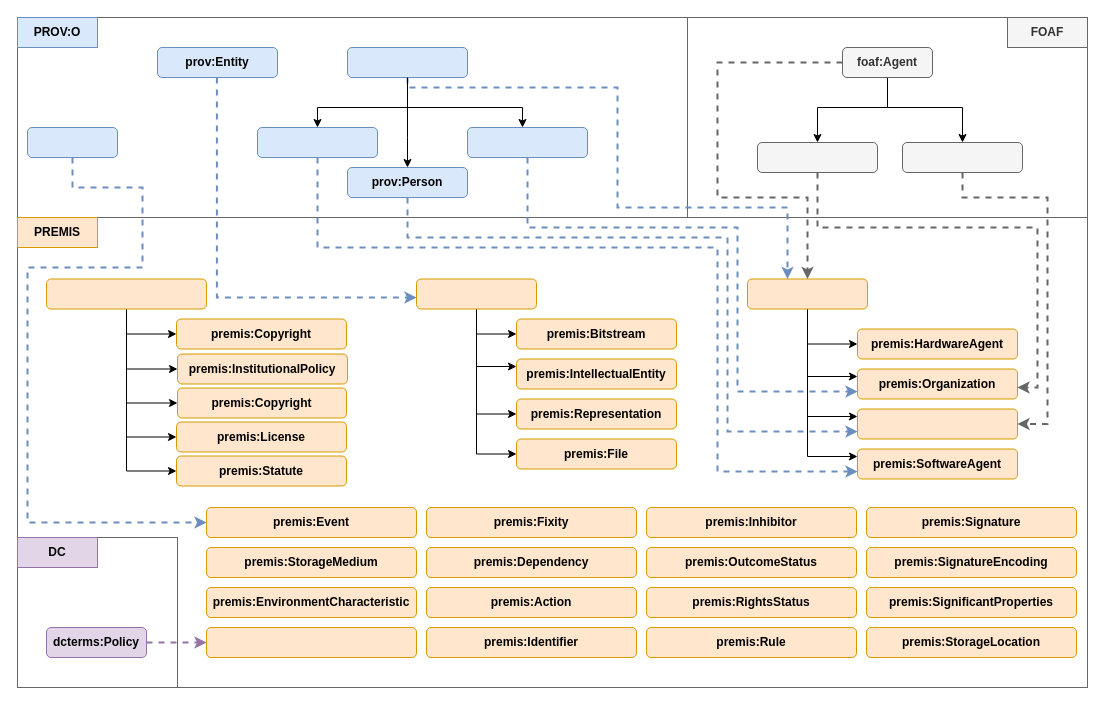
Some shapes in this 1105 by 705 pixel diagram are drawn without their labels. The shapes that lost their labels are listed below. From the top down, each one's centre as x and y in pixels, then its label:
(x=407, y=62): prov:Agent
(x=72, y=142): prov:Activity
(x=317, y=142): prov:SoftwareAgent
(x=527, y=142): prov:Organization
(x=817, y=157): foaf:Organization
(x=962, y=157): foaf:Person
(x=126, y=293): premis:RightsBasis
(x=476, y=293): premis:Object
(x=807, y=293): premis:Agent
(x=937, y=423): premis:Person
(x=311, y=642): premis:PreservationPolicy
